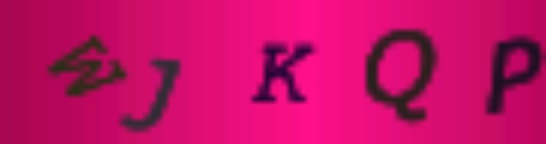J: (119, 56, 182, 134)
K: (247, 39, 322, 107)
P: (480, 28, 546, 117)
Q: (361, 24, 443, 123)
W: (45, 30, 132, 103)
